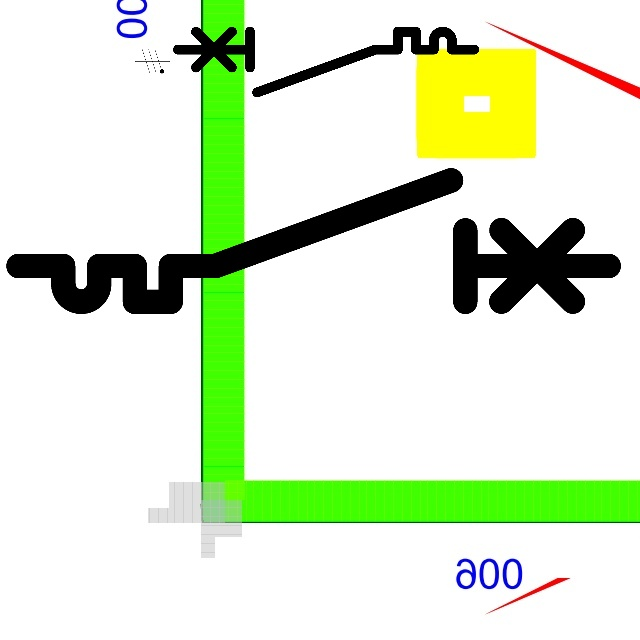interruptor_termomagnetico: (3, 165, 623, 317), (170, 24, 482, 100)
